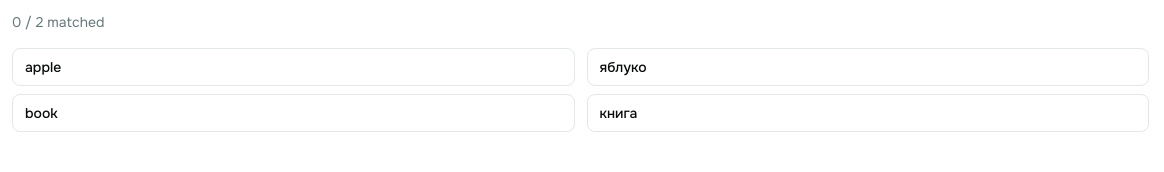
VocabularyTest › correct match increments progress and disables matched items
Click the button "apple".
click(43, 67)  # box x1=12 y1=48 x2=574 y2=86
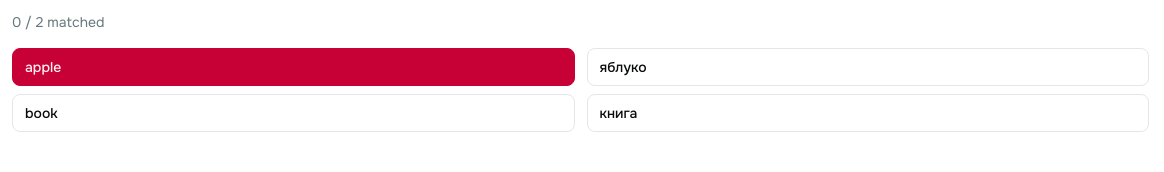
Click the button "яблуко".
click(623, 67)  # box x1=586 y1=48 x2=1149 y2=86
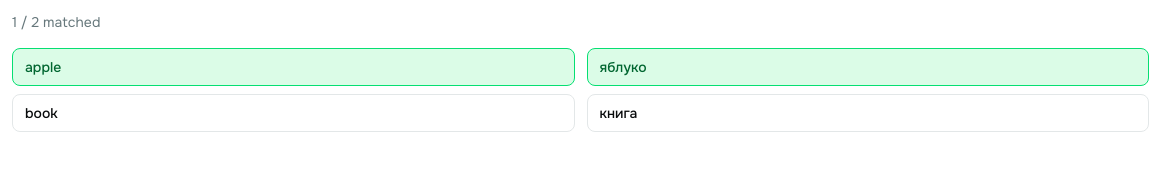
Expected: the text "1 / 2 matched" is shown, x1=12 y1=13 x2=100 y2=31
Expected: the button "apple" is disabled, x1=12 y1=48 x2=574 y2=86
Expected: the button "яблуко" is disabled, x1=586 y1=48 x2=1149 y2=86
